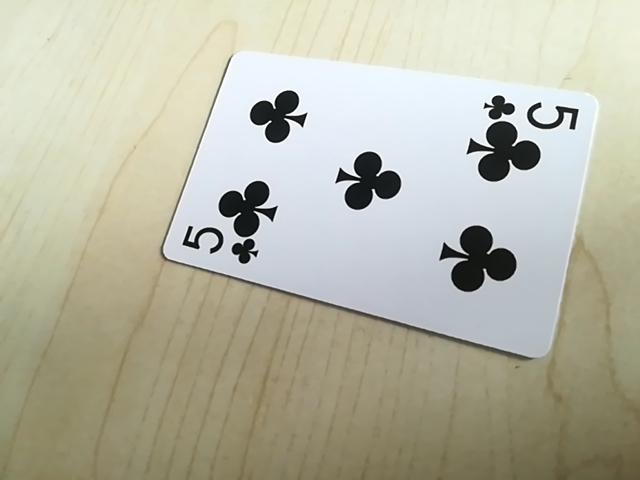mh 5: (174, 224, 268, 264), (483, 93, 582, 129)
